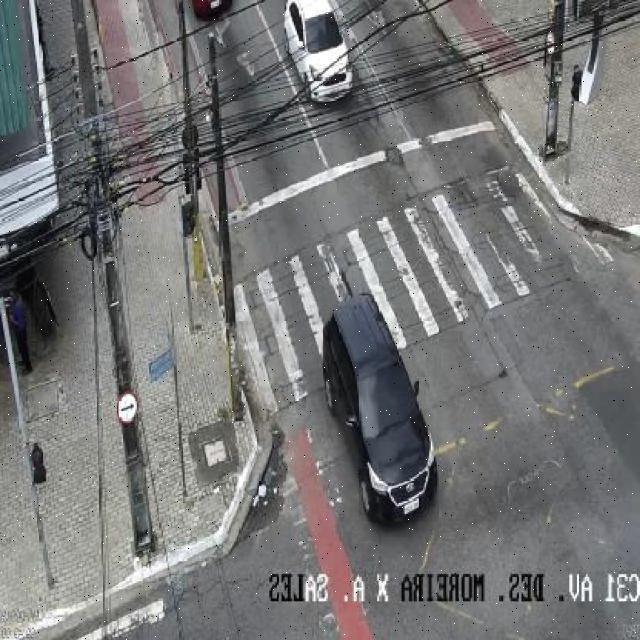Car: (319, 290, 443, 530), (275, 0, 359, 106), (177, 0, 235, 23)
